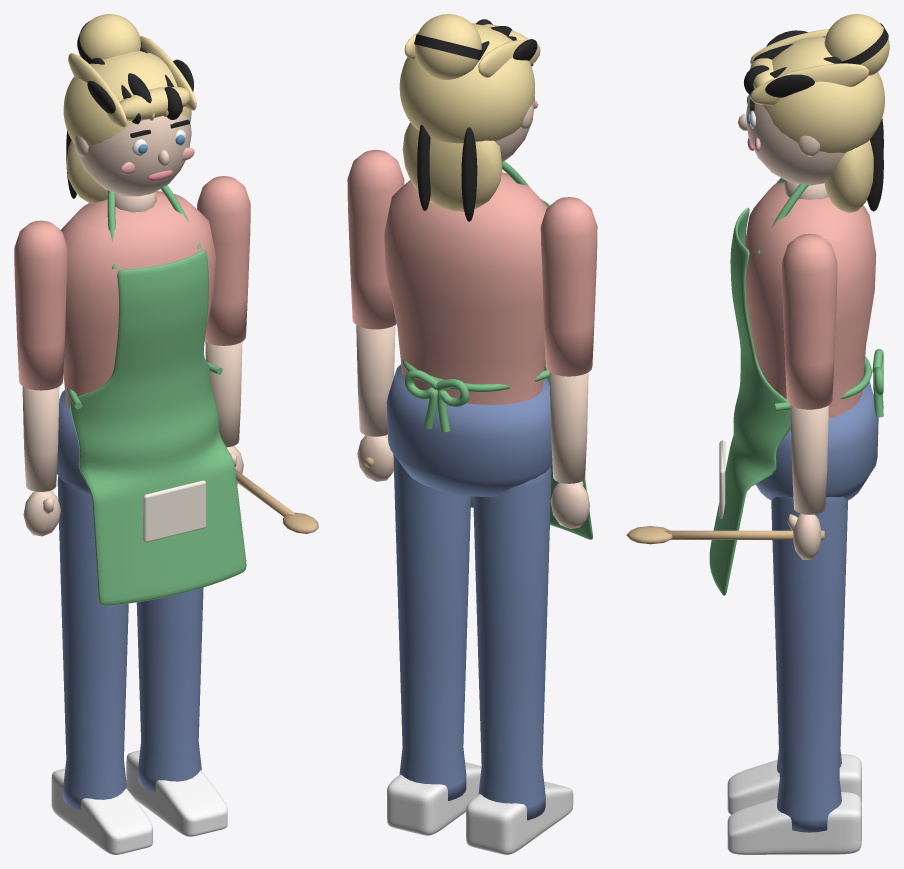
Rendered from maria.glb.
The picture shows the model from 3 angles, left to right: view 1: azimuth 30°, elevation 25°; view 2: azimuth 150°, elevation 25°; view 3: azimuth 270°, elevation 25°; orthographic projection. The views are drawn at different scales.
Parts seen in each view (by area): view 1: Maria_Apron, Leg_L.001, Maria_Torso, Leg_R.001, Arm_L.001, Arm_R.001, Maria_Head, Forearm_L, Hair_Cap, Shoe_L, Shoe_R, Maria_Apron_Pocket (+10 smaller); view 2: Maria_Torso, Leg_L.001, Leg_R.001, Maria_Hips, Hair_Cap, Arm_L.001, Arm_R.001, Forearm_L, Forearm_R, Hair_Back, Shoe_L, Shoe_R (+10 smaller); view 3: Leg_R.001, Maria_Torso, Maria_Apron, Arm_R.001, Hair_Cap, Shoe_R, Maria_Hips, Forearm_R, Maria_Head, Shoe_L, Hair_Back, Hair_Bun (+7 smaller).
Part boxes in pixels (<box>): Maria_Apron: <box>70,250,246,605</box>; Leg_L.001: <box>57,476,128,810</box>; Maria_Torso: <box>61,191,215,406</box>; Leg_R.001: <box>136,587,203,792</box>; Arm_L.001: <box>14,220,67,390</box>; Arm_R.001: <box>197,176,250,345</box>; Maria_Head: <box>75,114,191,196</box>; Forearm_L: <box>22,386,60,536</box>; Hair_Cap: <box>63,50,191,146</box>; Shoe_L: <box>51,768,152,854</box>; Shoe_R: <box>126,750,227,836</box>; Maria_Apron_Pocket: <box>143,480,206,542</box>; Maria_Torso: <box>384,172,547,404</box>; Leg_L.001: <box>473,467,551,820</box>; Leg_R.001: <box>393,454,471,800</box>; Maria_Hips: <box>386,364,552,496</box>; Hair_Cap: <box>399,23,534,143</box>; Arm_L.001: <box>540,197,597,376</box>; Arm_R.001: <box>347,150,404,329</box>; Forearm_L: <box>549,372,590,528</box>; Forearm_R: <box>356,325,395,481</box>; Hair_Back: <box>402,122,502,211</box>; Shoe_L: <box>466,781,573,854</box>; Shoe_R: <box>387,762,481,835</box>; Leg_R.001: <box>771,496,847,832</box>; Maria_Torso: <box>744,182,876,418</box>; Maria_Apron: <box>709,207,790,595</box>; Arm_R.001: <box>782,233,837,409</box>; Hair_Cap: <box>763,36,884,153</box>; Shoe_R: <box>727,792,861,854</box>; Maria_Hips: <box>755,381,878,500</box>; Forearm_R: <box>787,405,828,559</box>; Maria_Head: <box>746,95,845,185</box>; Shoe_L: <box>727,754,861,814</box>; Hair_Back: <box>824,140,873,212</box>; Hair_Bun: <box>824,14,889,75</box>.
Size of the model in its own units: 0.552 by 1.8 by 0.53.
